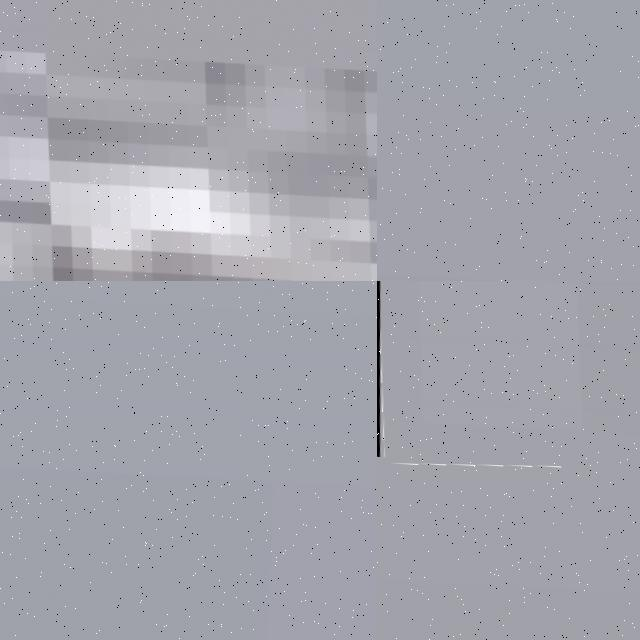drone: (0, 0, 377, 281), (377, 281, 640, 490)
